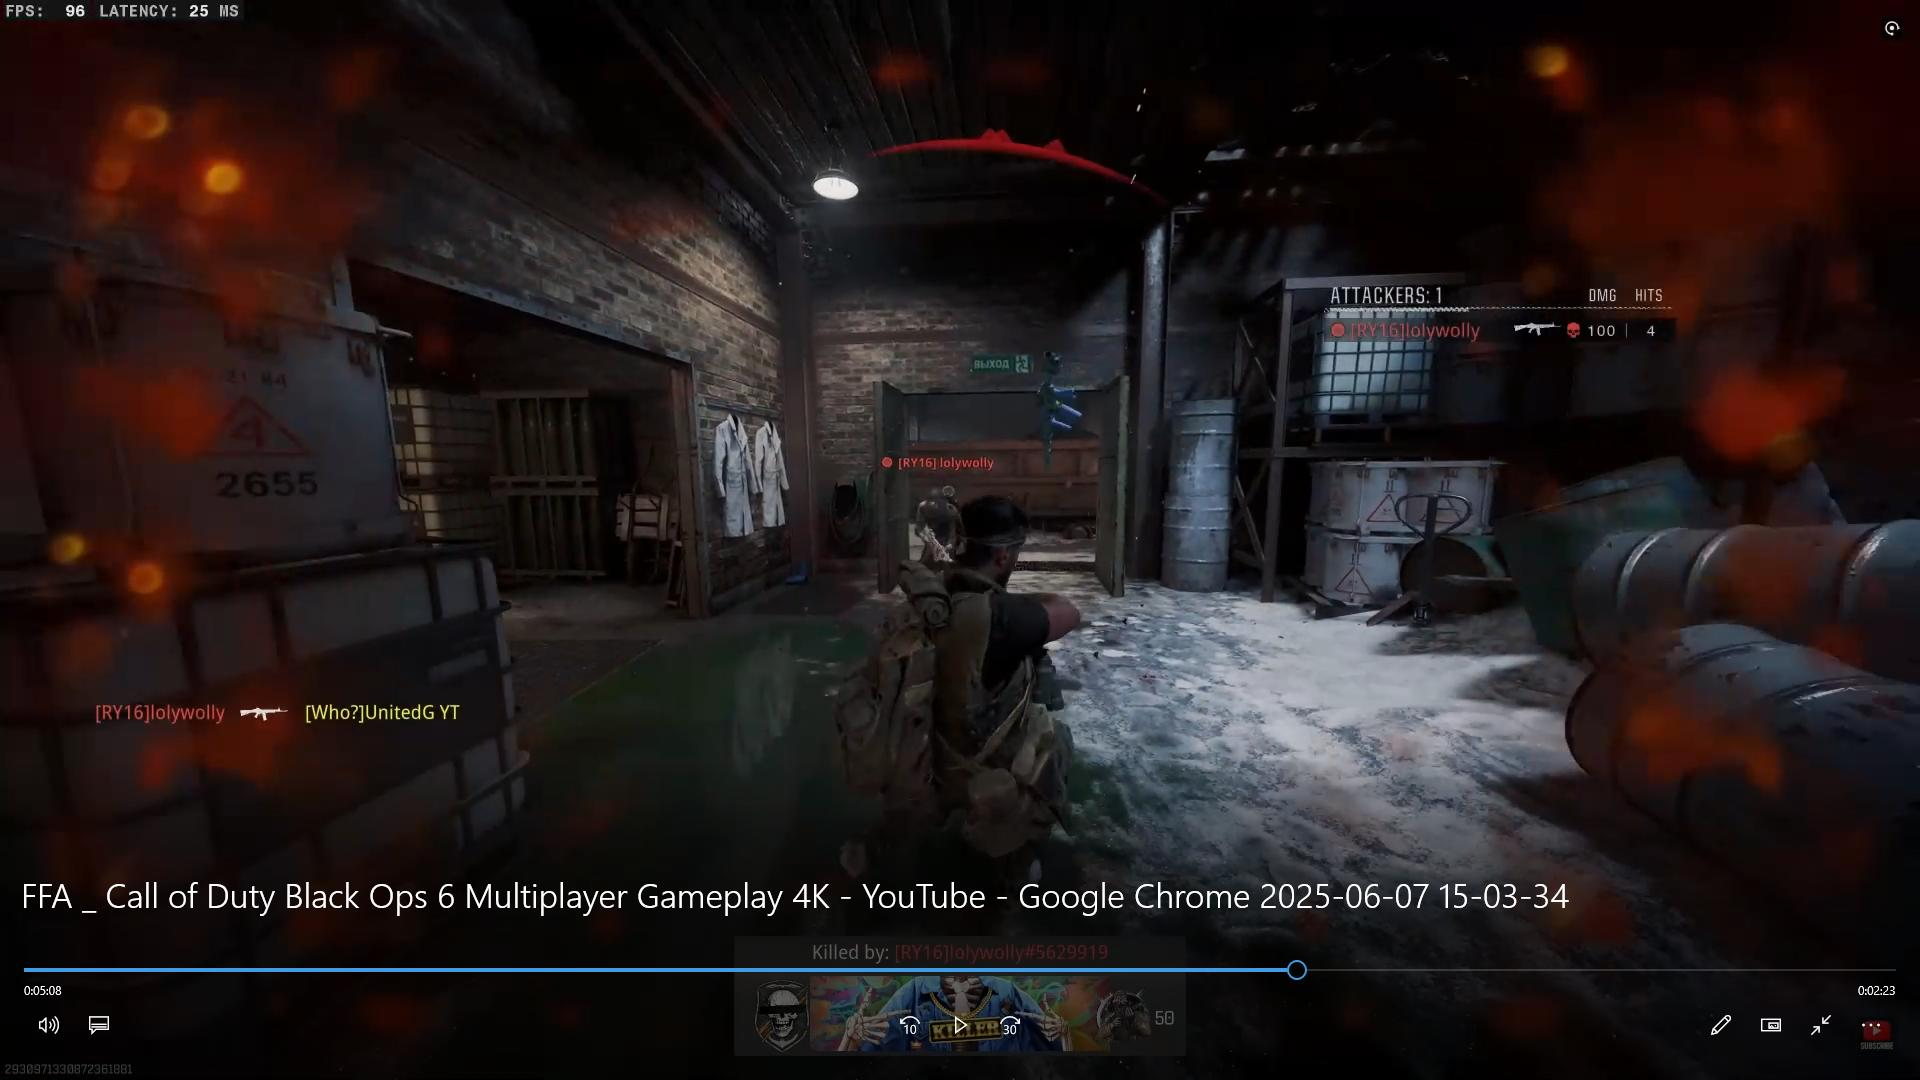Enemy: (905, 469, 964, 568)
